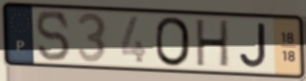3: (76, 11, 110, 65)
4: (119, 14, 149, 66)
H: (195, 18, 231, 70)
J: (238, 21, 269, 70)
O: (153, 15, 193, 69)
S: (34, 9, 73, 64)
